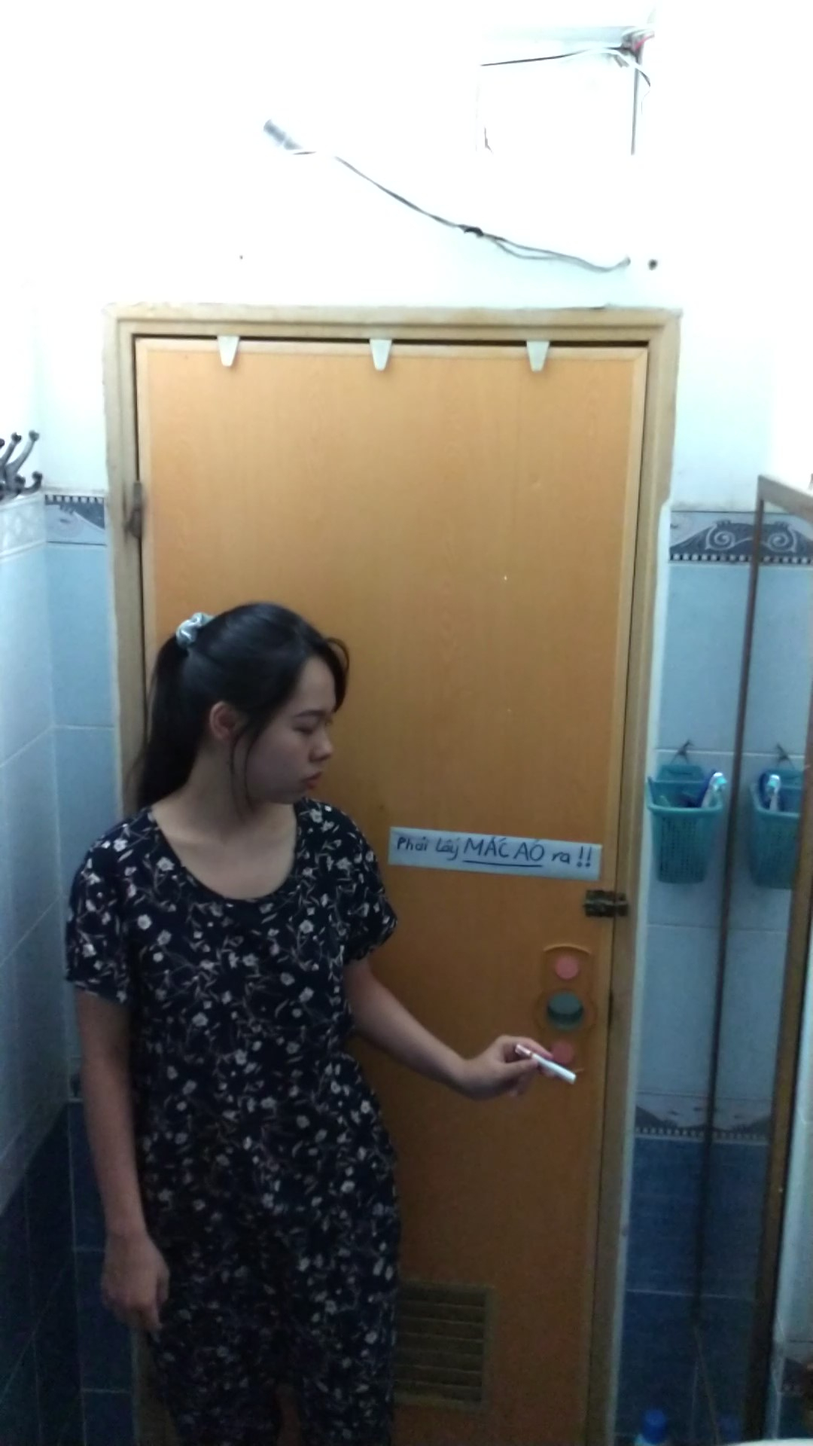cigarette: (531, 1048, 577, 1091)
person: (35, 591, 555, 1446)
